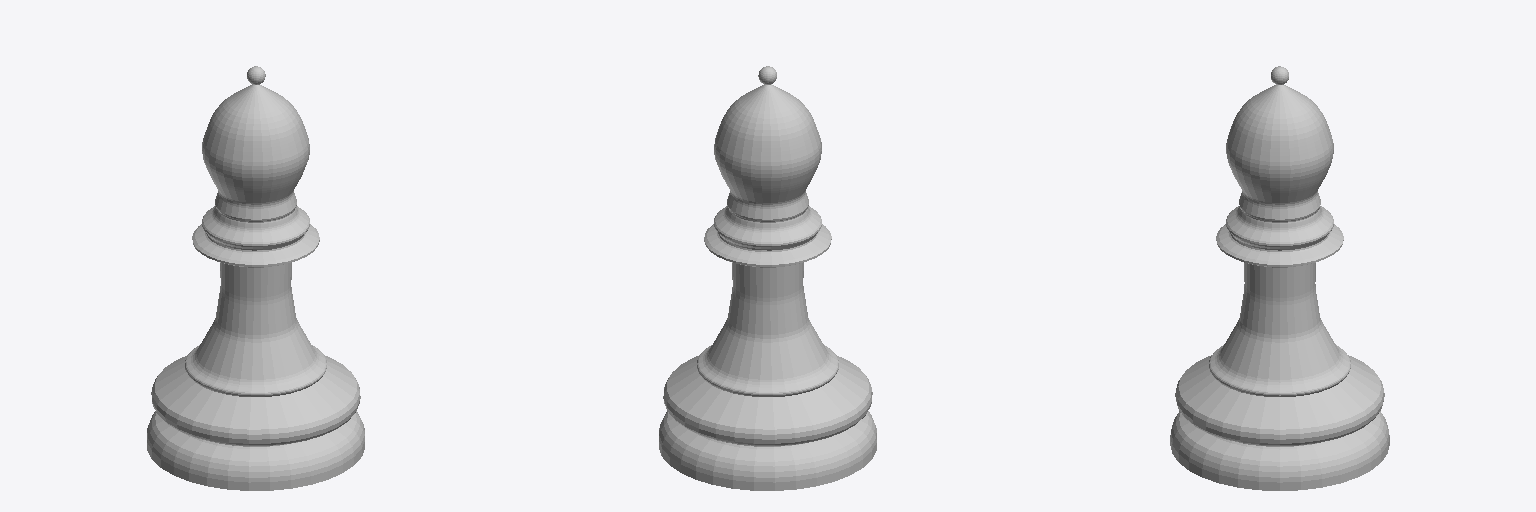
Rendered from black_bishop.obj.
3 renders of one model, left to right at view 1: azimuth 30°, elevation 25°; view 2: azimuth 150°, elevation 25°; view 3: azimuth 270°, elevation 25°, orthographic.
Visible parts, largest first — view 1: Dark_Bishop_2; view 2: Dark_Bishop_2; view 3: Dark_Bishop_2.
Part boxes in pixels (left/top/right/bottom): Dark_Bishop_2: left=147, top=66, right=364, bottom=490; Dark_Bishop_2: left=659, top=66, right=876, bottom=490; Dark_Bishop_2: left=1170, top=66, right=1389, bottom=490.
Bounding box in the file's own units: 1.21 × 2.29 × 1.21.